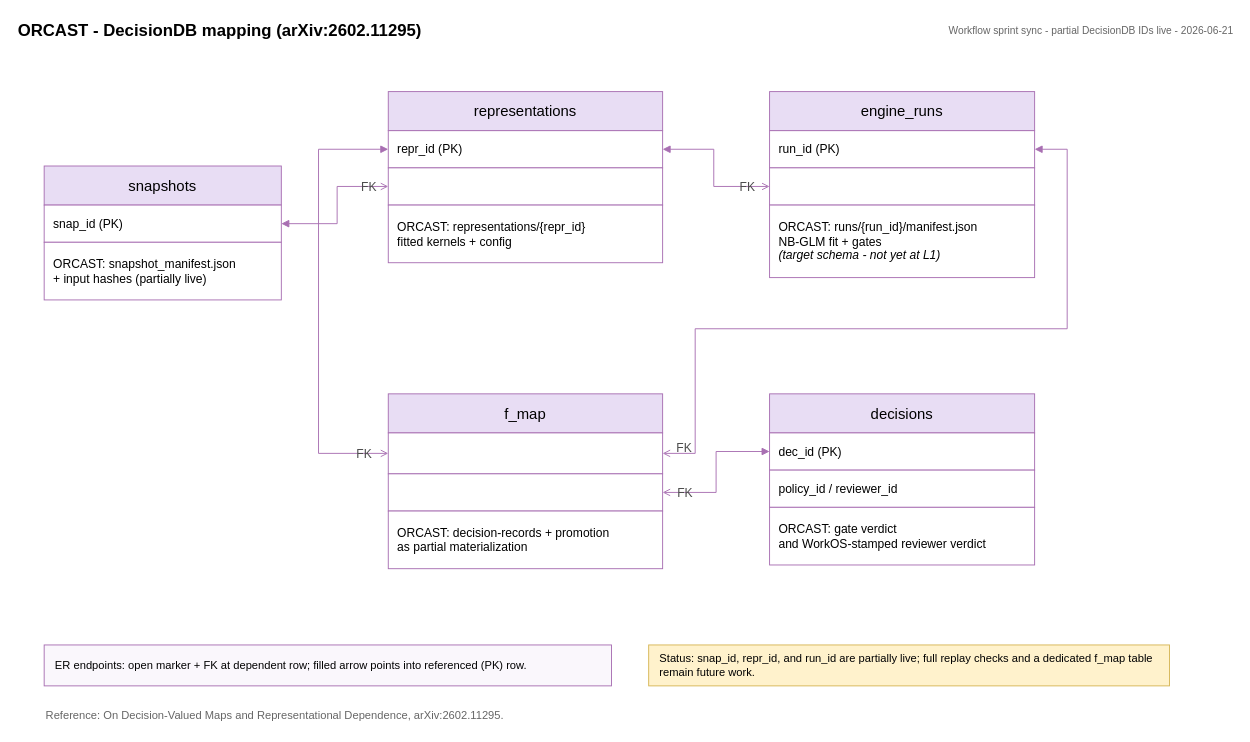
The diagram is 1250 pixels wide and 742 high, and some of its shapes have lost their labels. The centre of each missing label's shape, as x and y in pixels:
dec_id (FK): the point at 525,492
repr_id (FK): the point at 902,186
repr_id, run_id (PK, logical FK): the point at 525,453
snapshot_id (FK): the point at 525,186
